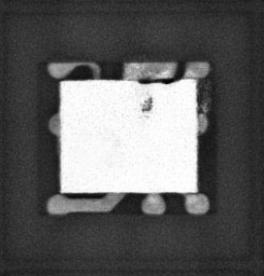DIE_BROKEN: (132, 77, 180, 84)
